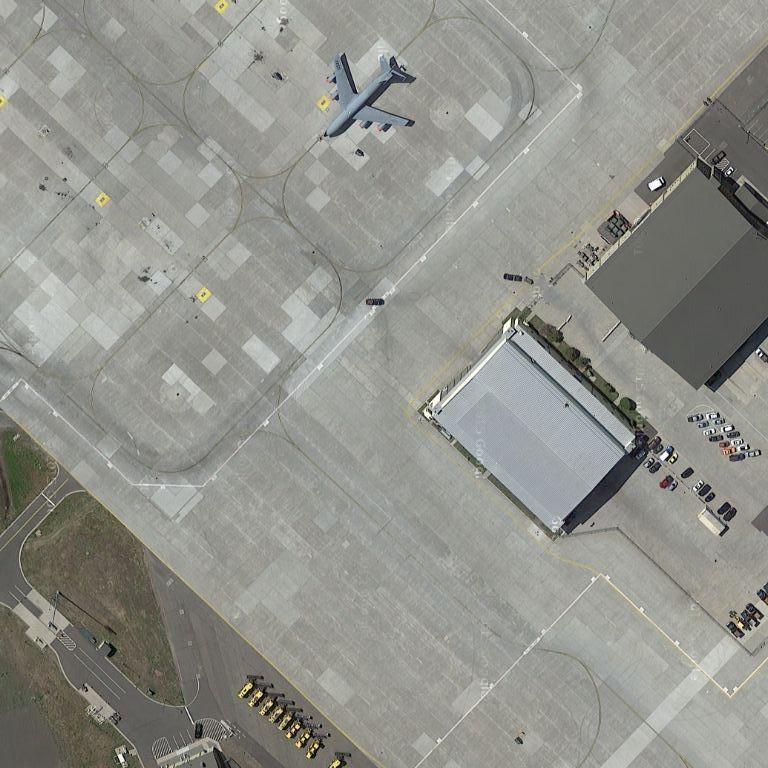KC-135: (319, 48, 417, 145)
